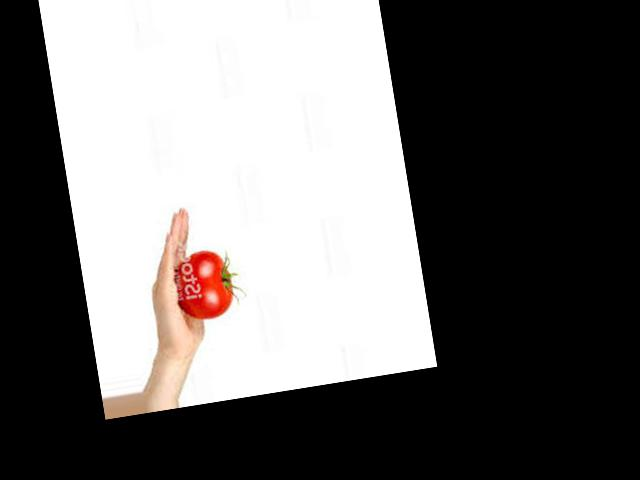tomato: (171, 248, 237, 323)
